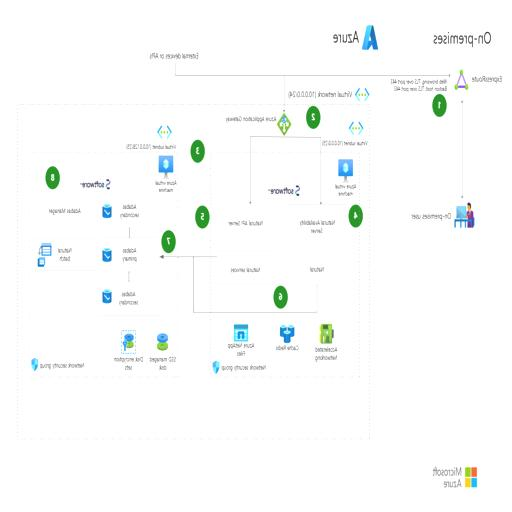actor: (454, 200, 476, 228)
api_gateway: (177, 72, 456, 76), (194, 297, 318, 302), (460, 91, 464, 204), (247, 156, 321, 161), (282, 76, 286, 114), (180, 254, 218, 258), (320, 160, 323, 193), (250, 160, 253, 193), (316, 283, 319, 316), (282, 144, 286, 158)
compute: (275, 114, 293, 137)
data_flow: (453, 68, 471, 91), (120, 329, 138, 352), (318, 322, 336, 344), (210, 358, 222, 374), (30, 358, 42, 374)
database_storage: (216, 204, 276, 240), (216, 248, 276, 284), (288, 204, 347, 240), (288, 248, 347, 284), (36, 237, 95, 270), (36, 194, 95, 226), (337, 155, 355, 178), (159, 155, 177, 178)
network_security: (100, 237, 158, 270), (100, 283, 158, 316), (100, 194, 158, 226), (278, 322, 296, 344), (234, 322, 252, 344), (156, 332, 172, 350)
trust_boundary: (17, 103, 370, 438), (202, 150, 366, 378), (23, 150, 187, 378), (423, 56, 507, 372)
